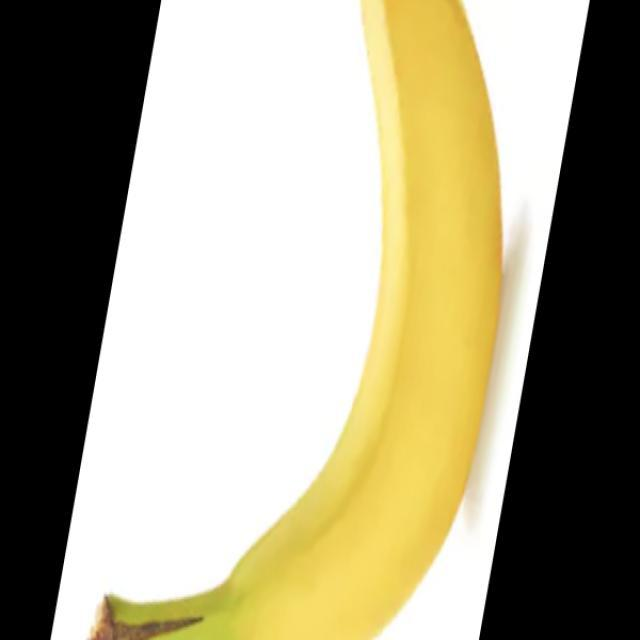Banana: (74, 0, 504, 639)
